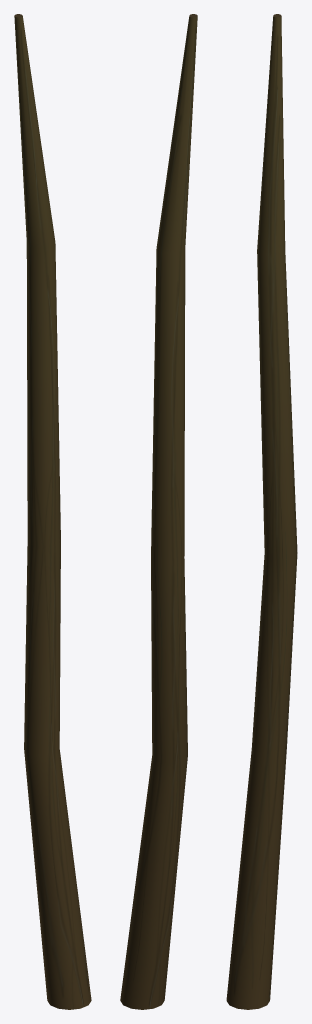
File: PotatoStem.fbx
3 renders of one model, left to right at view 1: azimuth 30°, elevation 25°; view 2: azimuth 210°, elevation 25°; view 3: azimuth 270°, elevation 25°, orthographic.
Parts seen in each view (by area): view 1: MainStemRoot001; view 2: MainStemRoot001; view 3: MainStemRoot001.
Part boxes in pixels (x1,y1,x2,y2): MainStemRoot001: (14,14,91,1009); MainStemRoot001: (120,14,197,1009); MainStemRoot001: (226,14,297,1009).
Bounding box in the file's own units: 0.2283 × 3.64 × 0.2421.
